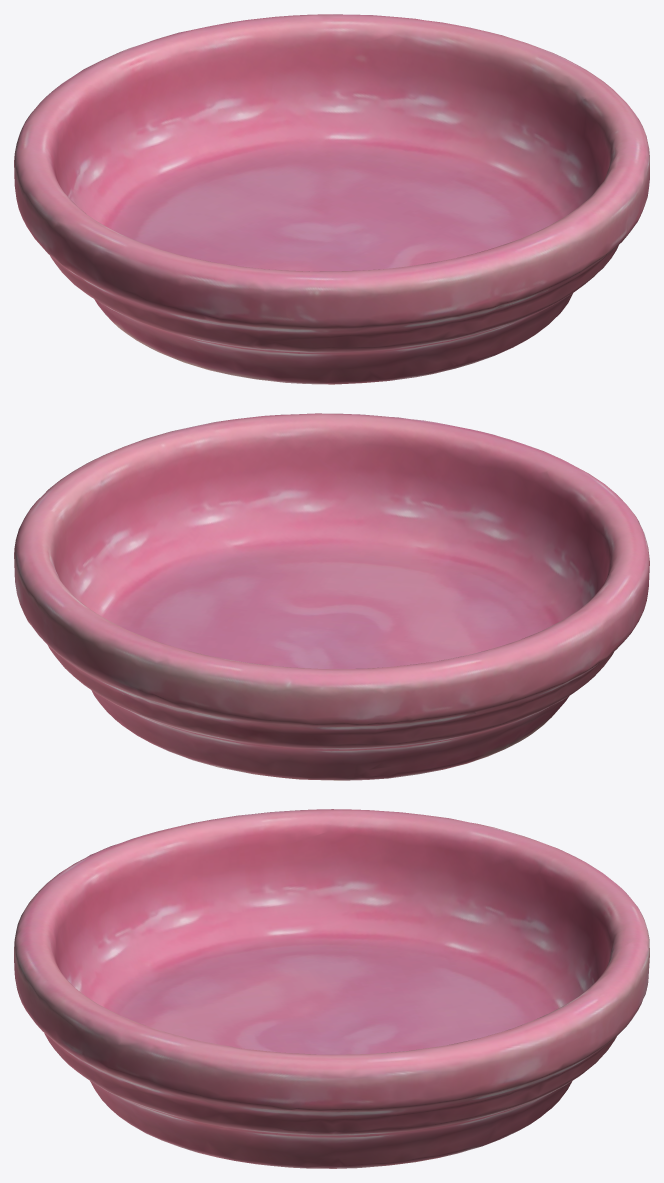
Rendered from Cole_Hardware_Saucer_Electric.glb.
3 views of the same model, one above another, from view 1: azimuth 30°, elevation 25°; view 2: azimuth 150°, elevation 25°; view 3: azimuth 270°, elevation 25° (orthographic).
Parts seen in each view (by area): view 1: Cole_Hardware_Saucer_Electric; view 2: Cole_Hardware_Saucer_Electric; view 3: Cole_Hardware_Saucer_Electric.
Part boxes in pixels (left/top/right/bottom): Cole_Hardware_Saucer_Electric: left=14, top=14, right=649, bottom=384; Cole_Hardware_Saucer_Electric: left=14, top=413, right=649, bottom=780; Cole_Hardware_Saucer_Electric: left=14, top=809, right=649, bottom=1168.
Size of the model in its own units: 0.1243 by 0.0316 by 0.1242.
1 material, 1 textured.
